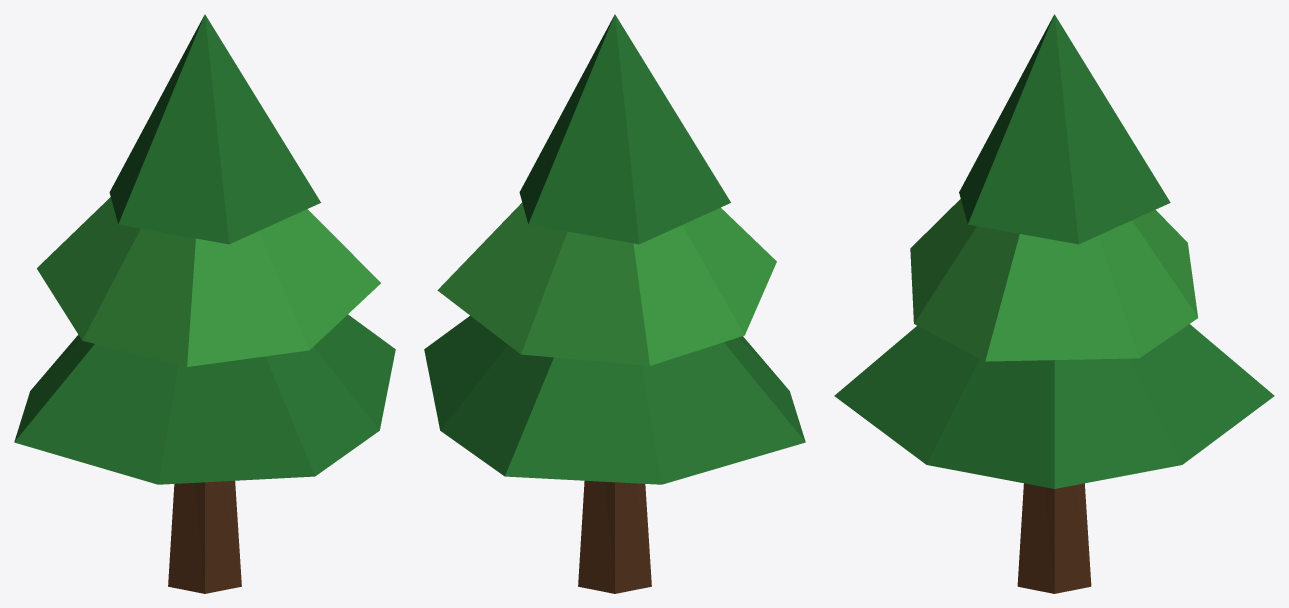
Rendered from LowPolyTree.obj.
3 views of the same model, side by side, from view 1: azimuth 30°, elevation 25°; view 2: azimuth 150°, elevation 25°; view 3: azimuth 270°, elevation 25° (orthographic).
Parts seen in each view (by area): view 1: LowPoly_Tree; view 2: LowPoly_Tree; view 3: LowPoly_Tree.
Part boxes in pixels (left/top/right/bottom): LowPoly_Tree: left=14, top=14, right=395, bottom=593; LowPoly_Tree: left=424, top=14, right=805, bottom=593; LowPoly_Tree: left=834, top=14, right=1274, bottom=593.
Bounding box in the file's own units: 3.47 × 4.9 × 3.47.
